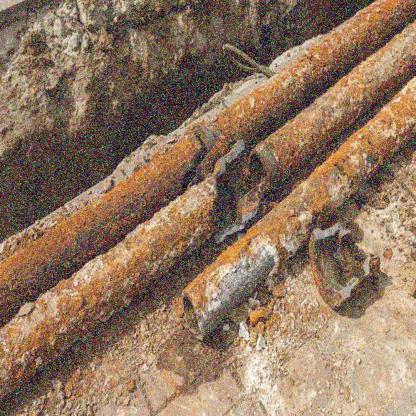burst: (194, 153, 281, 228)
